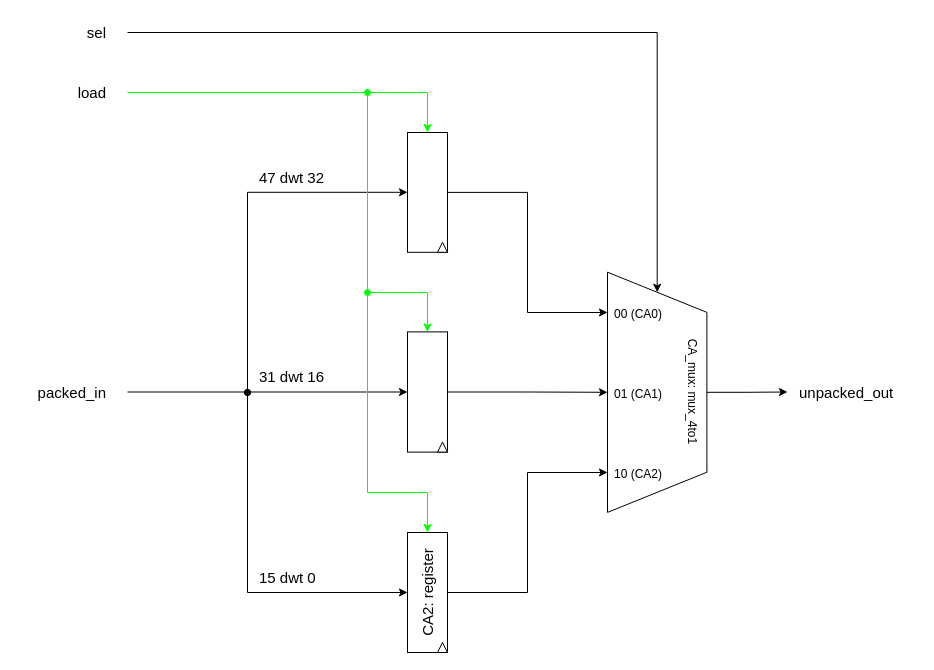
The diagram is 934 pixels wide and 670 high, and some of its shapes have lost their labels. The shapes that lost their labels are listed below. From the top down, each one's centre as x and y in pixels, then its label:
point 427,192: CA0: register
point 427,391: CA1: register
